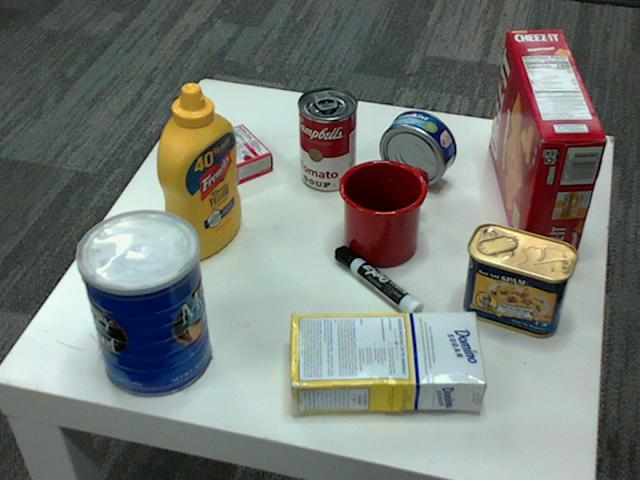cracker_box: (488, 27, 607, 261)
gelatin_box: (179, 121, 273, 191)
large_marker: (335, 247, 423, 323)
master_chef_can: (73, 211, 210, 399)
mug: (336, 158, 426, 265)
mustard_bottle: (155, 83, 241, 261)
potted_meat_can: (461, 223, 577, 337)
sugar_box: (283, 310, 484, 412)
tomato_soup_can: (297, 87, 357, 191)
tuna_fish_can: (378, 109, 455, 186)
